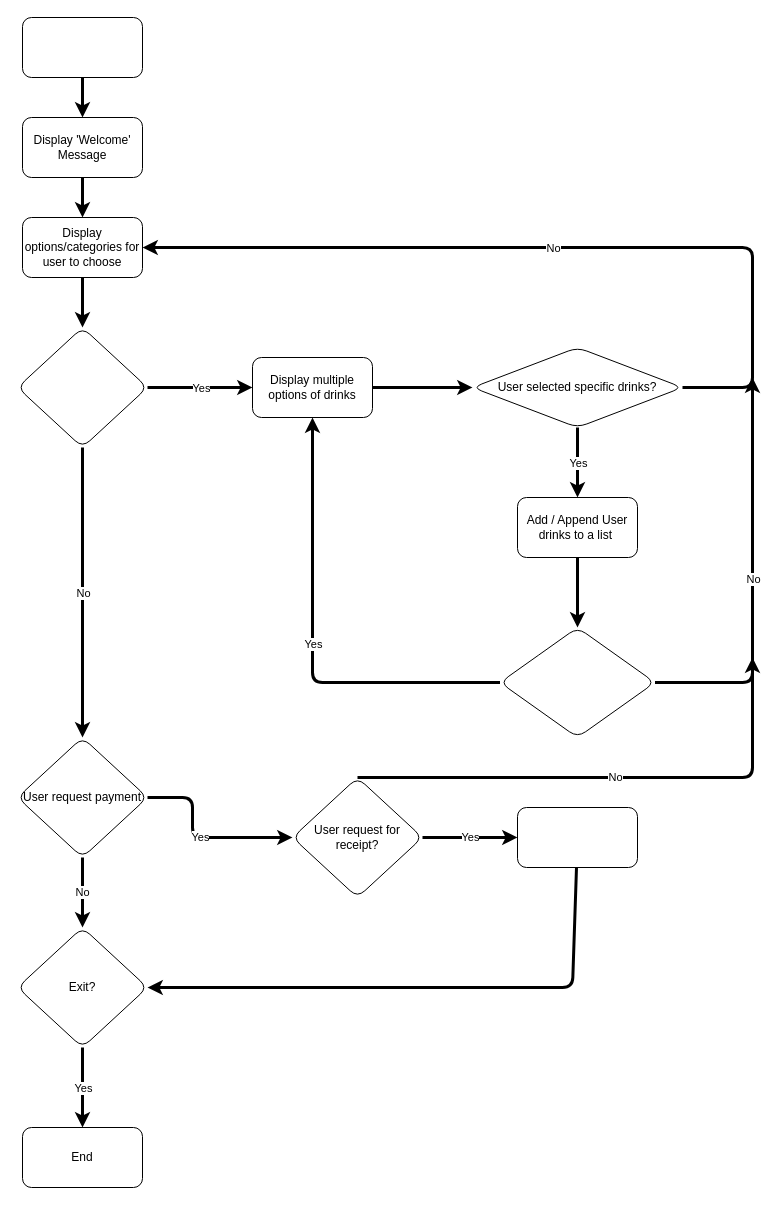
This 779x1205 diagram has some shape labels left out. The shapes that lost their labels are listed below. From the top down, each one's centre as x and y in pixels, then its label:
At (x=82, y=47): "start".
At (x=82, y=387): "User choose drinks?".
At (x=577, y=682): "Wanna add any more drinks?".
At (x=577, y=837): "Display user's Receipts".
